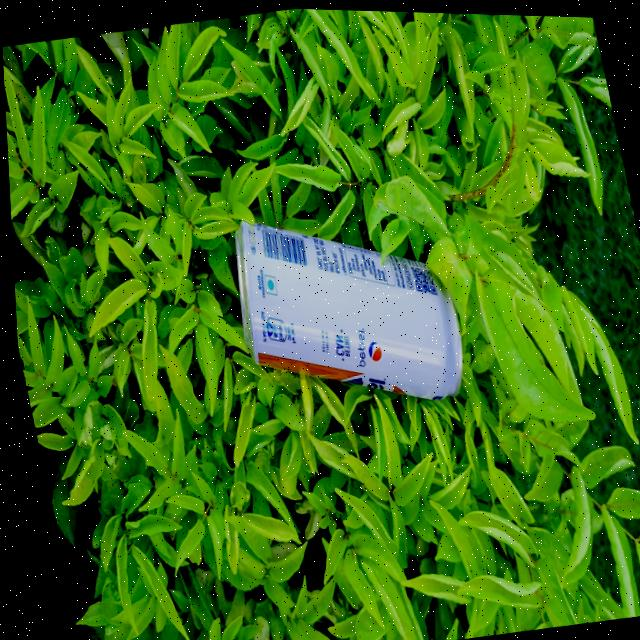Pepsi Retro: (220, 192, 471, 427)
